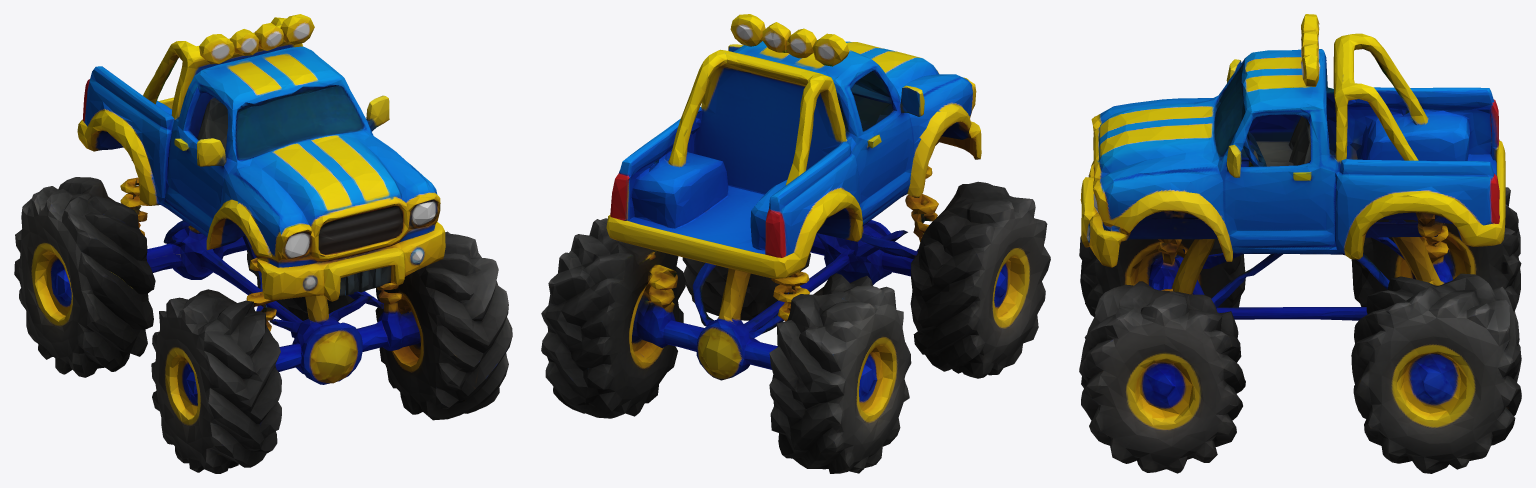
The model's file is bigfoot.glb.
3 views of the same model, side by side, from view 1: azimuth 30°, elevation 25°; view 2: azimuth 150°, elevation 25°; view 3: azimuth 270°, elevation 25° (orthographic). The views are drawn at different scales.
Visible parts, largest first — view 1: geometry_0; view 2: geometry_0; view 3: geometry_0.
Boxes of the visible parts, x1=… form: geometry_0: x1=14, y1=14, x2=512, y2=473; geometry_0: x1=541, y1=14, x2=1050, y2=473; geometry_0: x1=1079, y1=14, x2=1521, y2=473.
Bounding box in the file's own units: 0.8154 × 0.9211 × 0.9966.
Materials: 1 (1 with a texture image).
